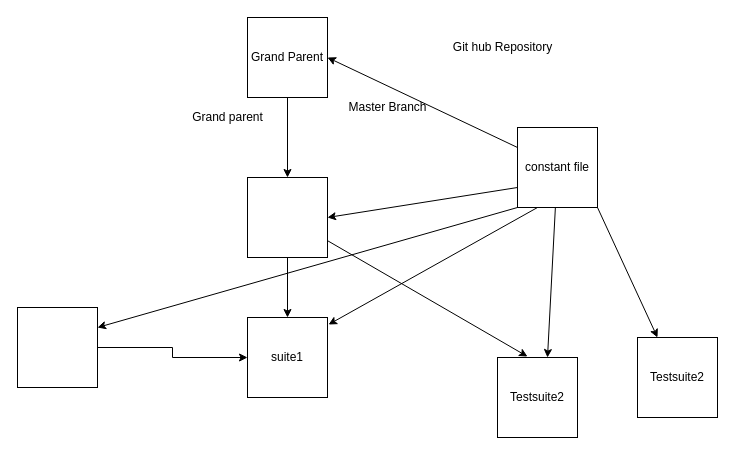
Image size: 735x455. Some labels were removed from this diagram. Each missing label, with the centre of its shape:
"Mother" belongs at pixel 57 347.
"Parent" belongs at pixel 287 217.
